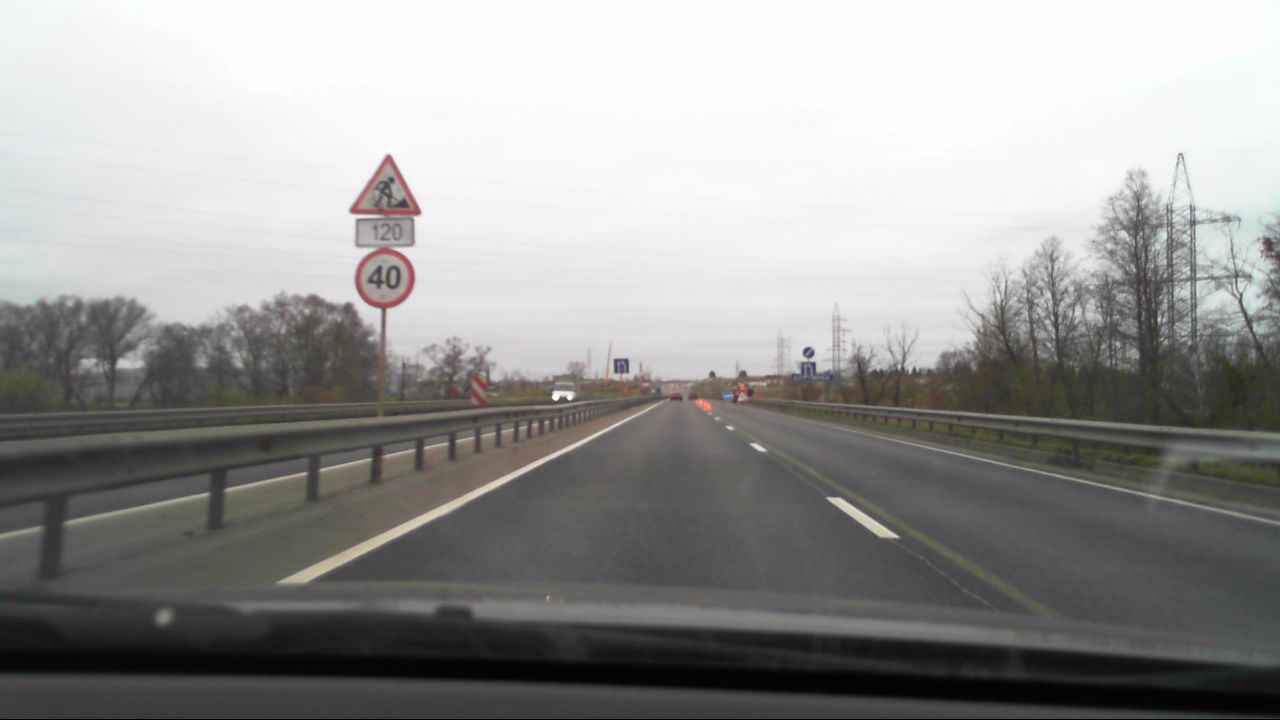speed_warning_40: (352, 250, 418, 310)
